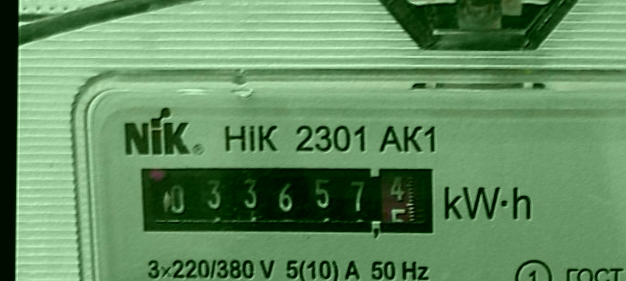0: (167, 181, 188, 219)
3: (205, 178, 224, 213), (241, 177, 260, 212)
4: (388, 174, 408, 204)
5: (311, 176, 334, 212)
6: (275, 181, 295, 216)
7: (348, 179, 366, 215)
screen: (129, 159, 443, 245)
